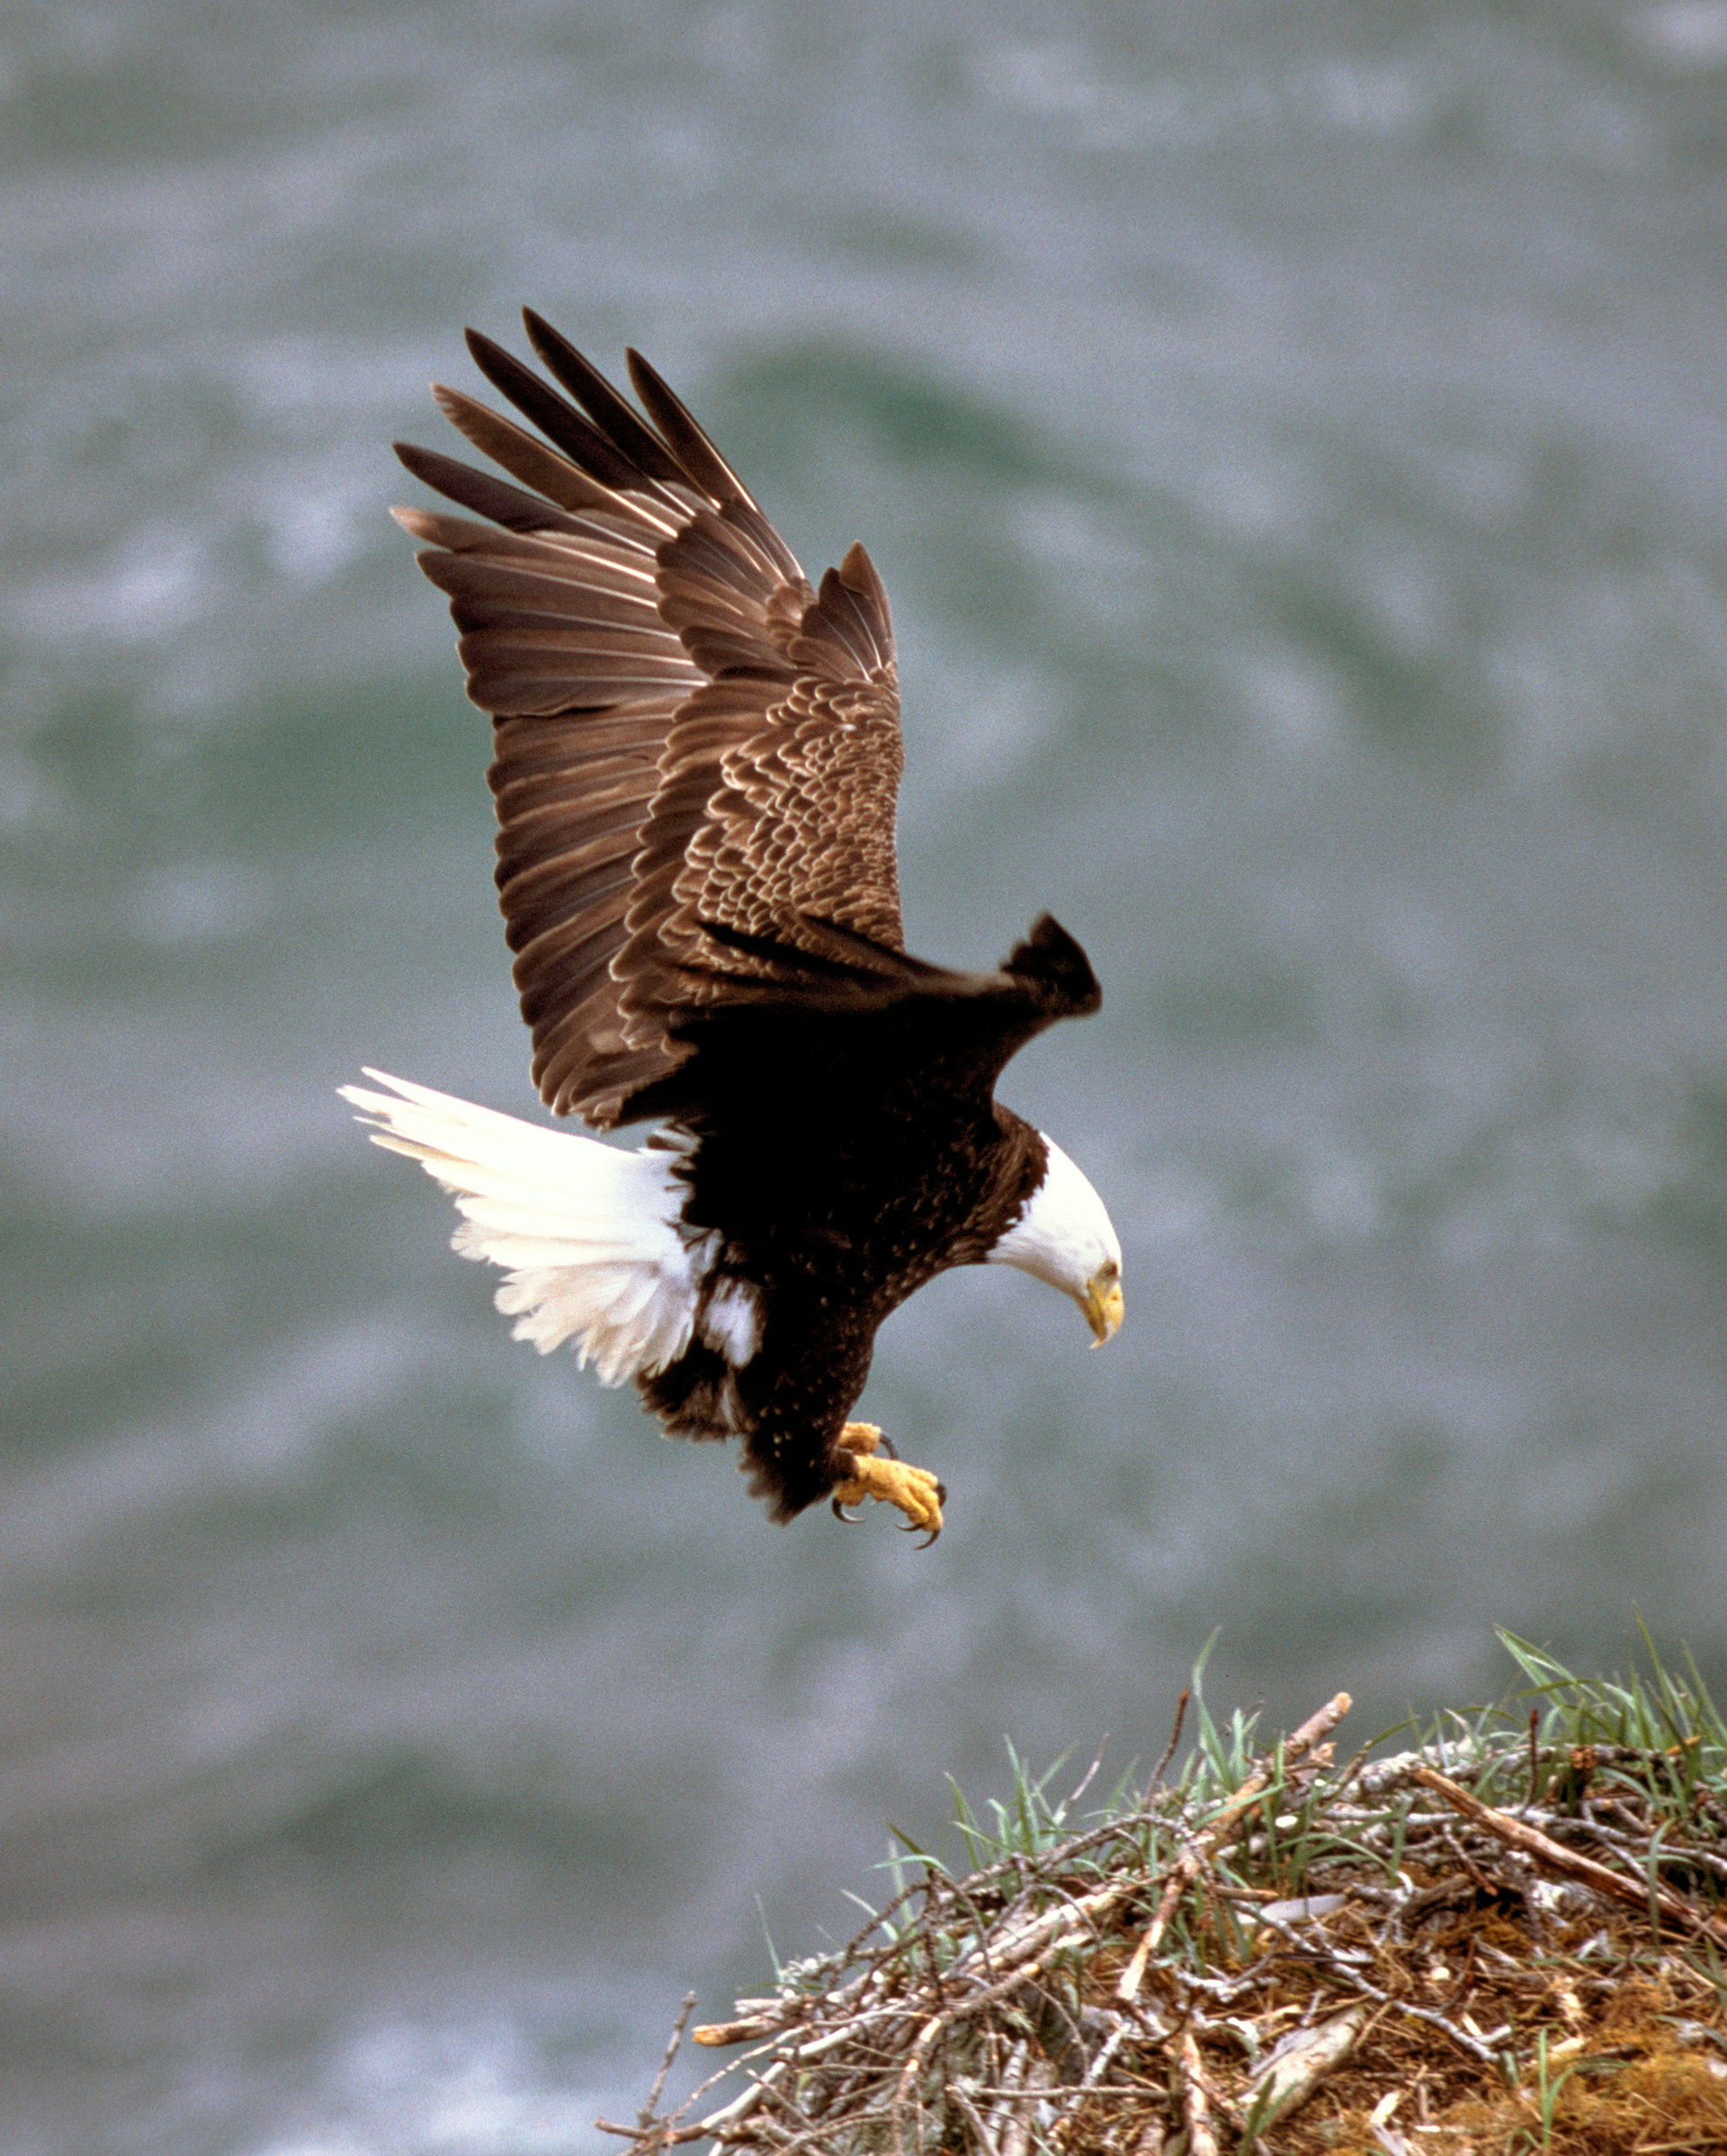eagle: (317, 268, 1163, 1554)
